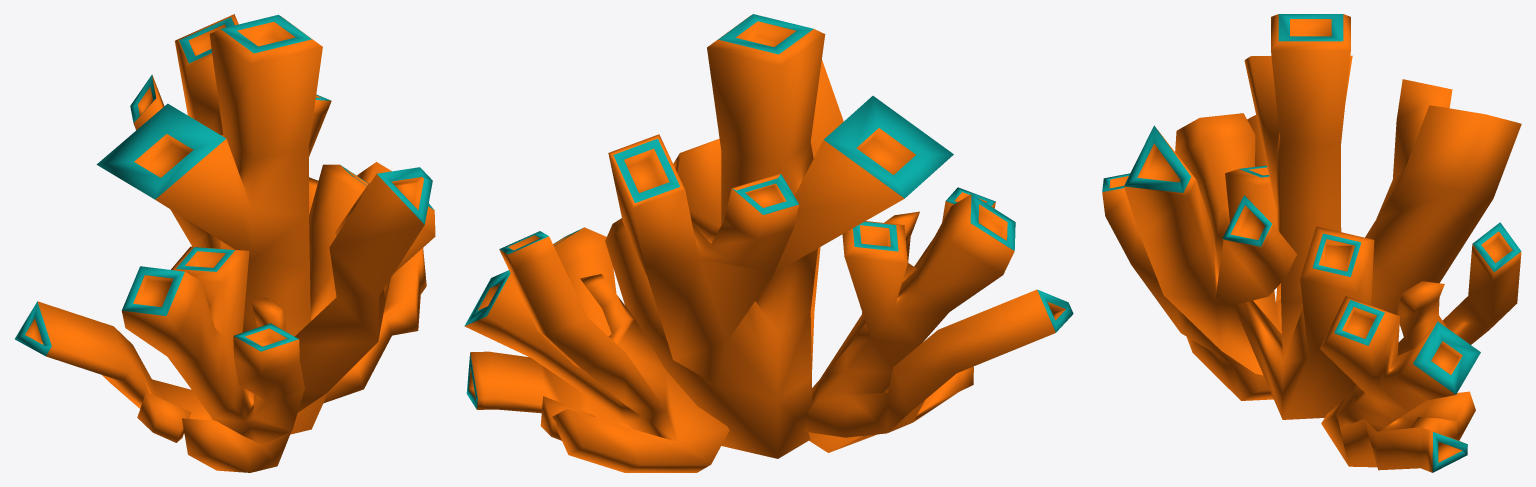
Rendered from coral2_orange.glb.
The picture shows the model from 3 angles, left to right: view 1: azimuth 30°, elevation 25°; view 2: azimuth 150°, elevation 25°; view 3: azimuth 270°, elevation 25°; orthographic projection. The views are drawn at different scales.
Visible parts, largest first — view 1: Cube; view 2: Cube; view 3: Cube.
Boxes of the visible parts, x1,y1,x2,y2 form: Cube: (15,14,435,472); Cube: (464,14,1073,472); Cube: (1102,14,1521,472).
Size of the model in its own units: 18.01 by 14.6 by 13.91.
